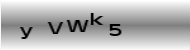5: (108, 22, 122, 36)
V: (45, 20, 64, 35)
W: (66, 18, 89, 32)
k: (90, 11, 104, 27)
y: (17, 25, 35, 40)
